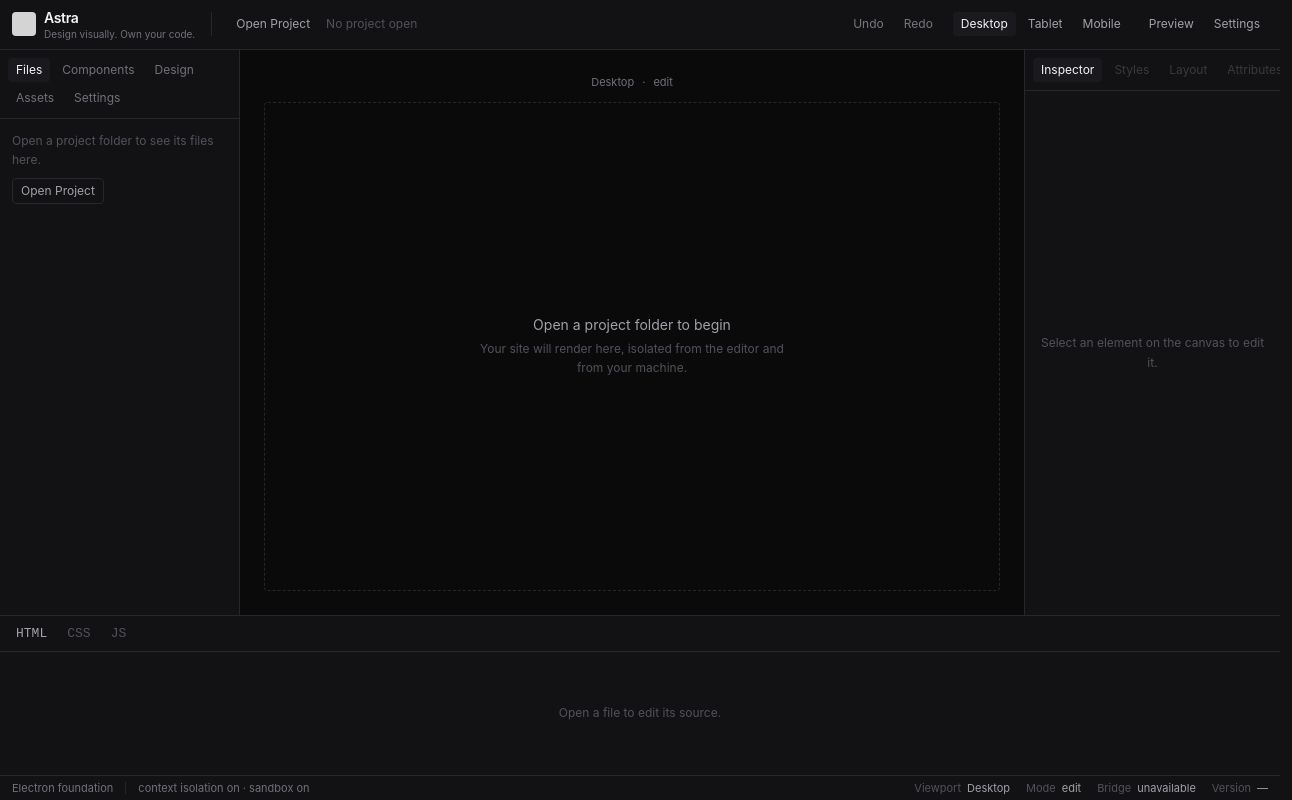
Test: App shell — viewport and preview › sizes and labels the canvas from the active viewport preset
The image size is (1292, 800).
Expected: the text with test id "canvas-viewport" reads "Desktop", x1=591 y1=74 x2=634 y2=88
Click the button with aria-label "preview at tablet width": (1045, 24) x1=1020 y1=12 x2=1071 y2=36
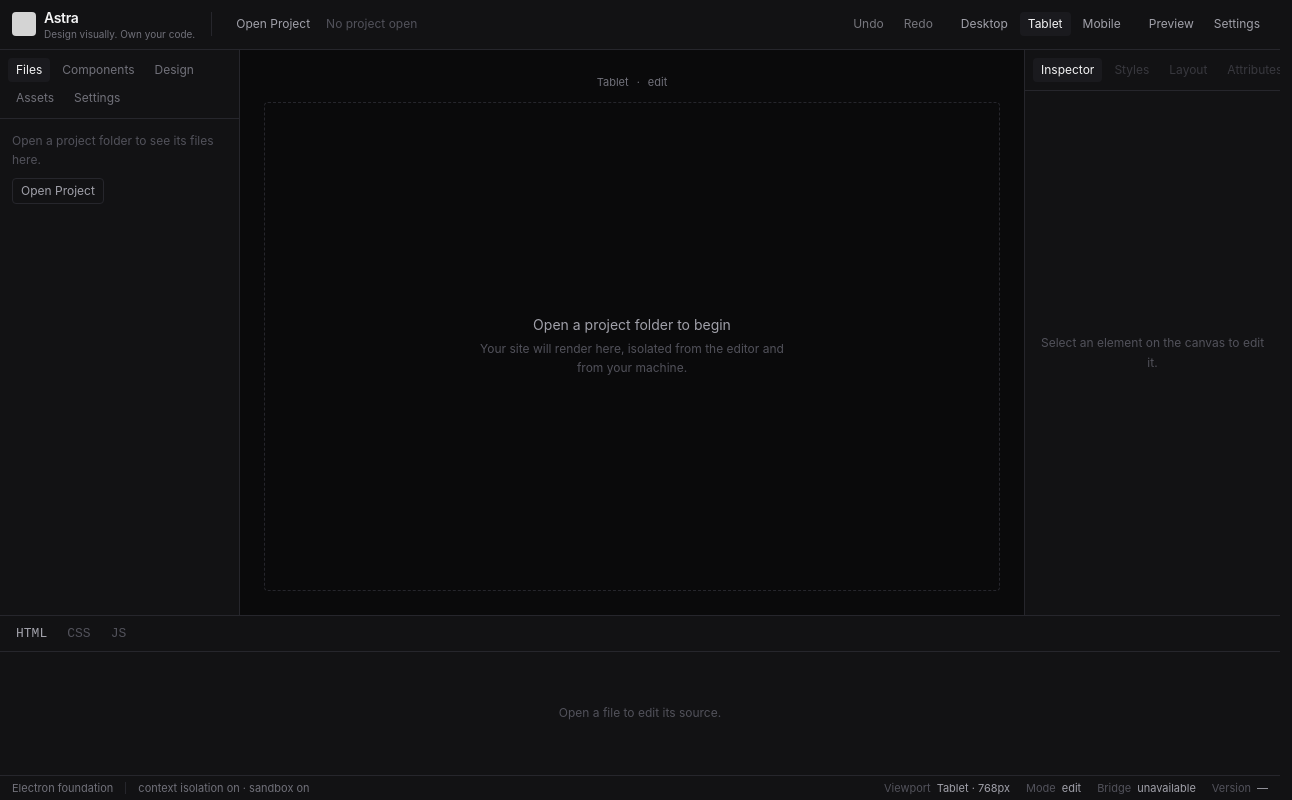
Expected: the text with test id "canvas-viewport" reads "Tablet", x1=597 y1=74 x2=629 y2=88
Expected: the text with test id "status-viewport" reads "Tablet · 768px", x1=937 y1=780 x2=1010 y2=796
